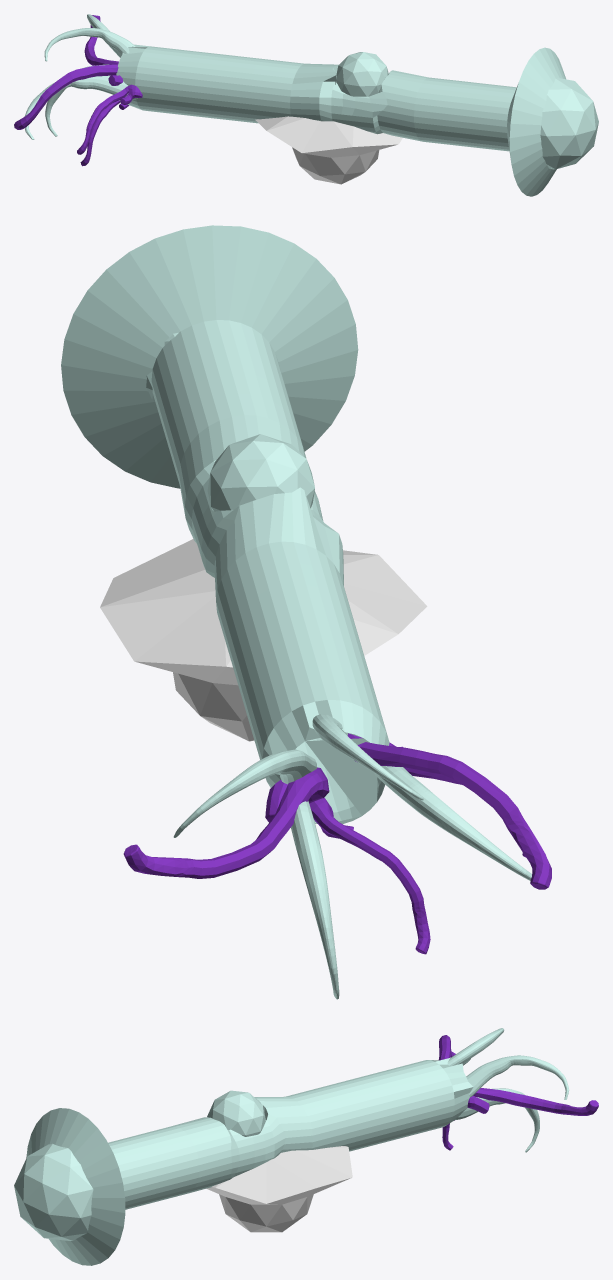
File: crystal cannon 3.fbx
The picture shows the model from 3 angles, top to bottom: view 1: azimuth 30°, elevation 25°; view 2: azimuth 150°, elevation 25°; view 3: azimuth 270°, elevation 25°; orthographic projection. The views are drawn at different scales.
Parts seen in each view (by area): view 1: Icosphere.002, Icosphere; view 2: Icosphere.002, Icosphere; view 3: Icosphere.002, Icosphere.
Part boxes in pixels (<box>): Icosphere.002: <box>14,14,598,196</box>; Icosphere: <box>255,116,402,184</box>; Icosphere.002: <box>61,225,551,999</box>; Icosphere: <box>100,539,427,741</box>; Icosphere.002: <box>14,1028,598,1265</box>; Icosphere: <box>207,1146,352,1232</box>.
Size of what is drawn, in the model's own units: 1686 by 691 by 1995.
